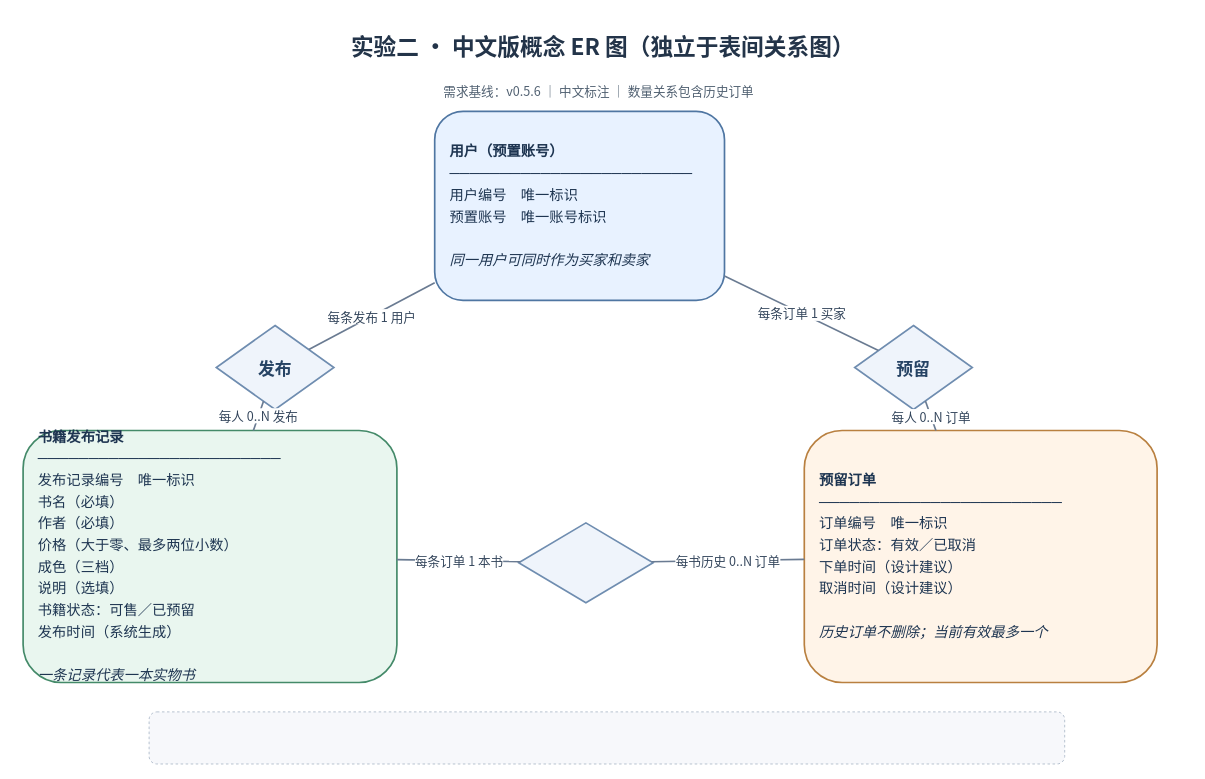
The diagram is 1205 pixels wide and 779 high, and some of its shapes have lost their labels. Each missing label, with the centre of its shape:
"关联订单" goes at (585,562).
"核心约束：同一本书可有多条历史订单，但同时最多一条有效订单；不允许自购；旧 O1 不得影响新 O2。" goes at (606,737).
